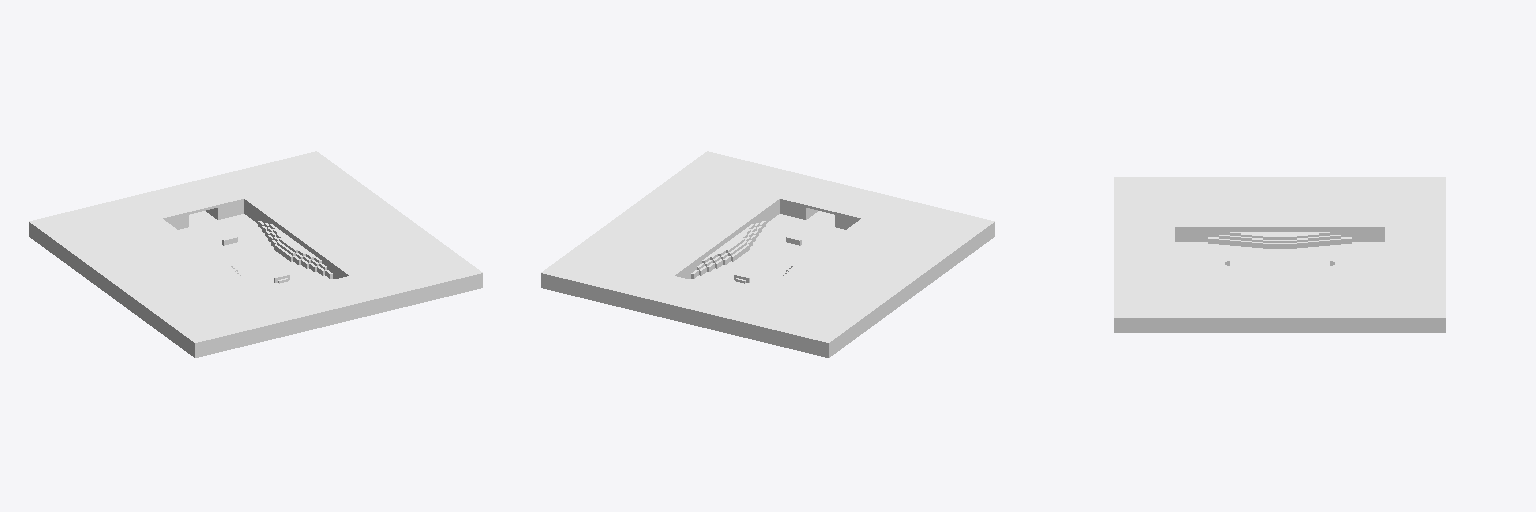
File: arenaLong.obj
3 renders of one model, left to right at view 1: azimuth 30°, elevation 25°; view 2: azimuth 150°, elevation 25°; view 3: azimuth 270°, elevation 25°, orthographic.
Visible parts, largest first — view 1: ObjObject; view 2: ObjObject; view 3: ObjObject.
Boxes of the visible parts, x1=… form: ObjObject: x1=29, y1=151, x2=482, y2=357; ObjObject: x1=541, y1=151, x2=994, y2=357; ObjObject: x1=1114, y1=177, x2=1445, y2=332.
Size of the model in its own units: 12 by 0.7 by 12.